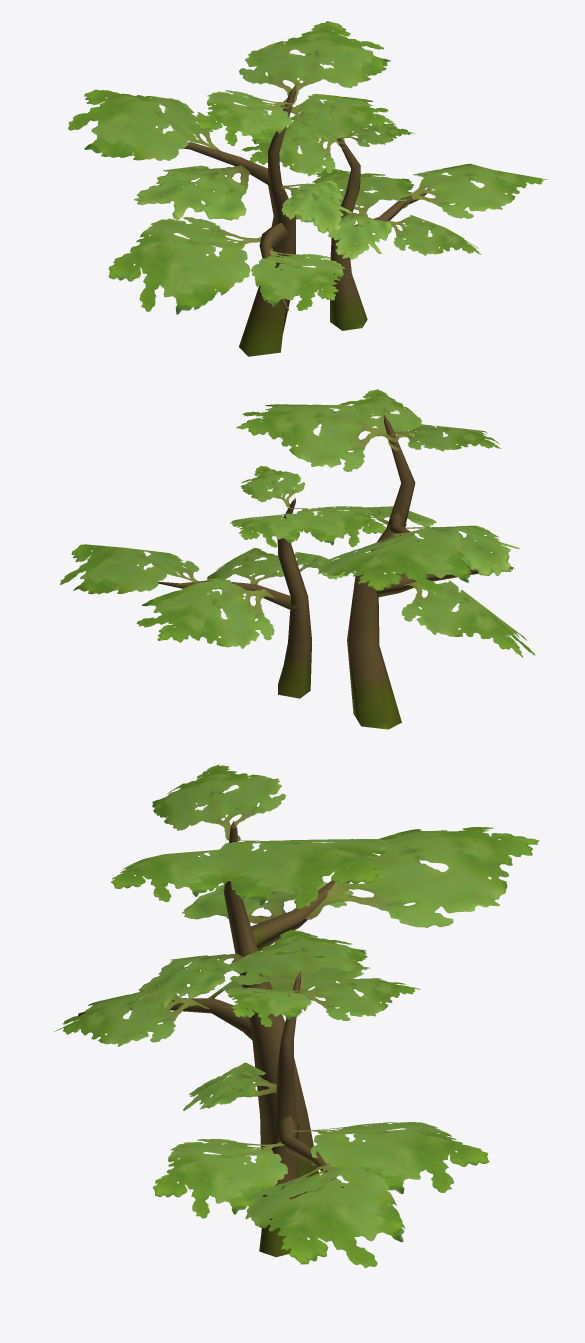
Rendered from liemo_plant_07 (6).fbx.
3 renders of one model, top to bottom at view 1: azimuth 30°, elevation 25°; view 2: azimuth 150°, elevation 25°; view 3: azimuth 270°, elevation 25°, orthographic. The views are drawn at different scales.
Visible parts, largest first — view 1: liemo_plant_07 (6); view 2: liemo_plant_07 (6); view 3: liemo_plant_07 (6).
Part boxes in pixels (box(x1,y1,x2,y2)): liemo_plant_07 (6): box(68, 21, 546, 356); liemo_plant_07 (6): box(59, 389, 535, 729); liemo_plant_07 (6): box(54, 764, 539, 1268).
Bounding box in the file's own units: 3.29 × 1.81 × 2.27.
